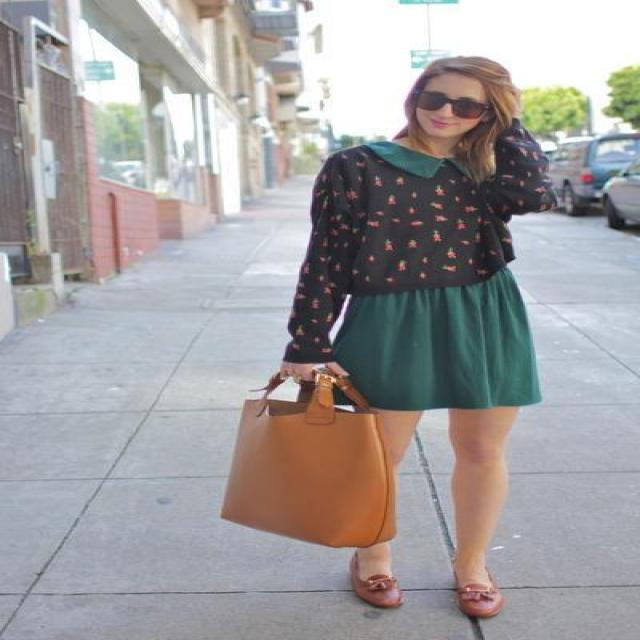bag: (220, 374, 394, 548)
dress: (326, 142, 540, 413)
jacket: (288, 128, 554, 363)
shoe: (341, 561, 501, 614)
sunglass: (404, 74, 506, 122)
